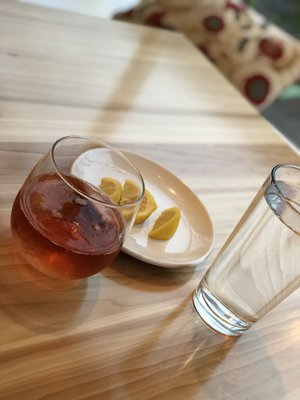pizza: (10, 137, 156, 285), (192, 164, 300, 337)
